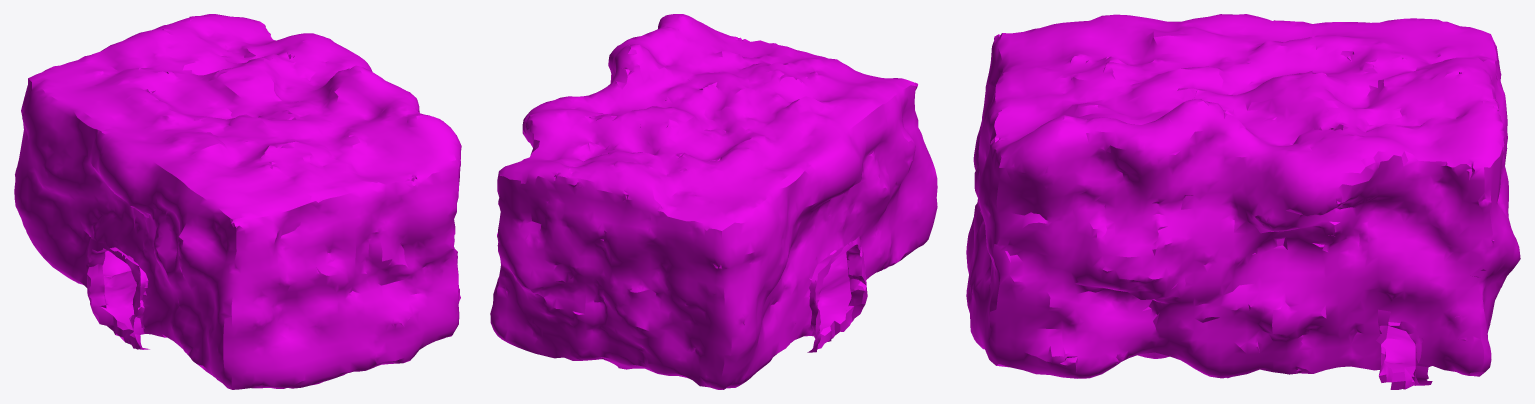
Rendered from Sanctuary_MainChambersMesh.gltf.
The picture shows the model from 3 angles, left to right: view 1: azimuth 30°, elevation 25°; view 2: azimuth 150°, elevation 25°; view 3: azimuth 270°, elevation 25°; orthographic projection. The views are drawn at different scales.
Parts seen in each view (by area): view 1: Sanctuary_MainChambersMesh2; view 2: Sanctuary_MainChambersMesh2; view 3: Sanctuary_MainChambersMesh2.
Boxes of the visible parts, left/top/right/bottom form: Sanctuary_MainChambersMesh2: left=14, top=14, right=461, bottom=389; Sanctuary_MainChambersMesh2: left=490, top=14, right=937, bottom=389; Sanctuary_MainChambersMesh2: left=966, top=14, right=1520, bottom=389.
Bounding box in the file's own units: 75.92 × 58 × 101.
